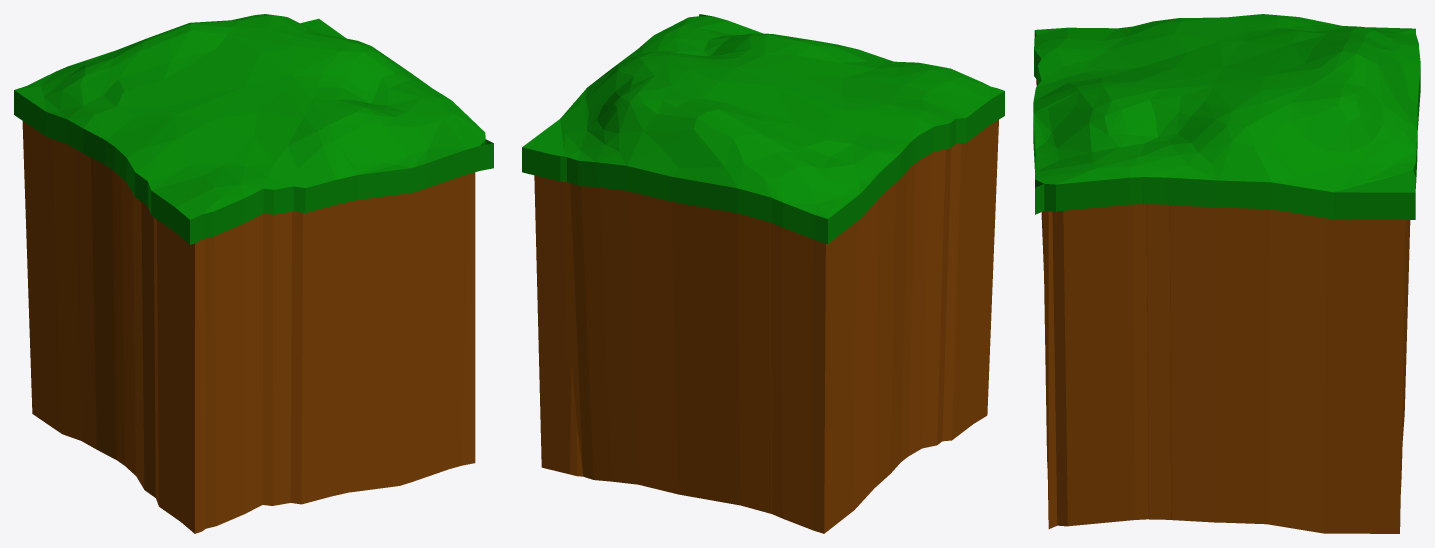
File: Mundo.fbx
The picture shows the model from 3 angles, left to right: view 1: azimuth 30°, elevation 25°; view 2: azimuth 150°, elevation 25°; view 3: azimuth 270°, elevation 25°; orthographic projection. The views are drawn at different scales.
Visible parts, largest first — view 1: Plane; view 2: Plane; view 3: Plane.
Part boxes in pixels (<box>): Plane: <box>14,14,493,533</box>; Plane: <box>522,14,1004,533</box>; Plane: <box>1033,14,1420,533</box>.
Size of the model in its own units: 2370 by 2759 by 2391.
